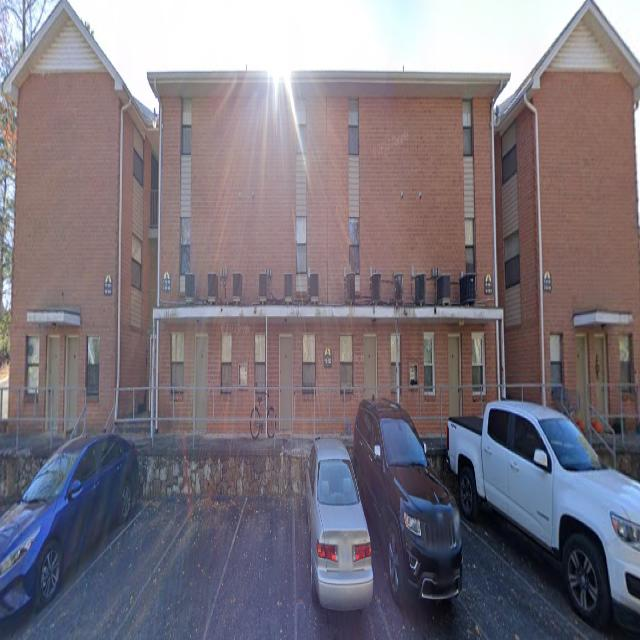House: (146, 70, 511, 432), (2, 0, 158, 438), (493, 0, 639, 438)
